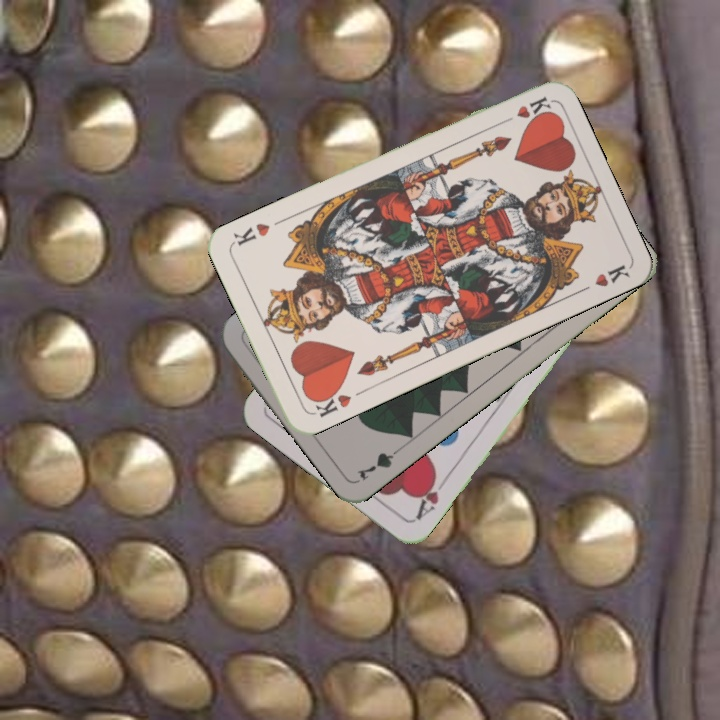G7: (352, 441, 406, 483)
HA: (411, 470, 451, 523)
HK: (495, 92, 553, 128), (308, 384, 354, 420)
